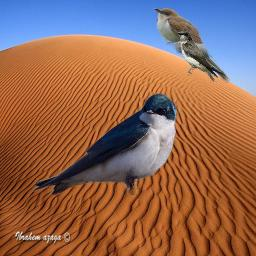Cuckoo: (153, 8, 230, 83)
Swallow: (32, 93, 178, 195), (178, 31, 225, 83)
